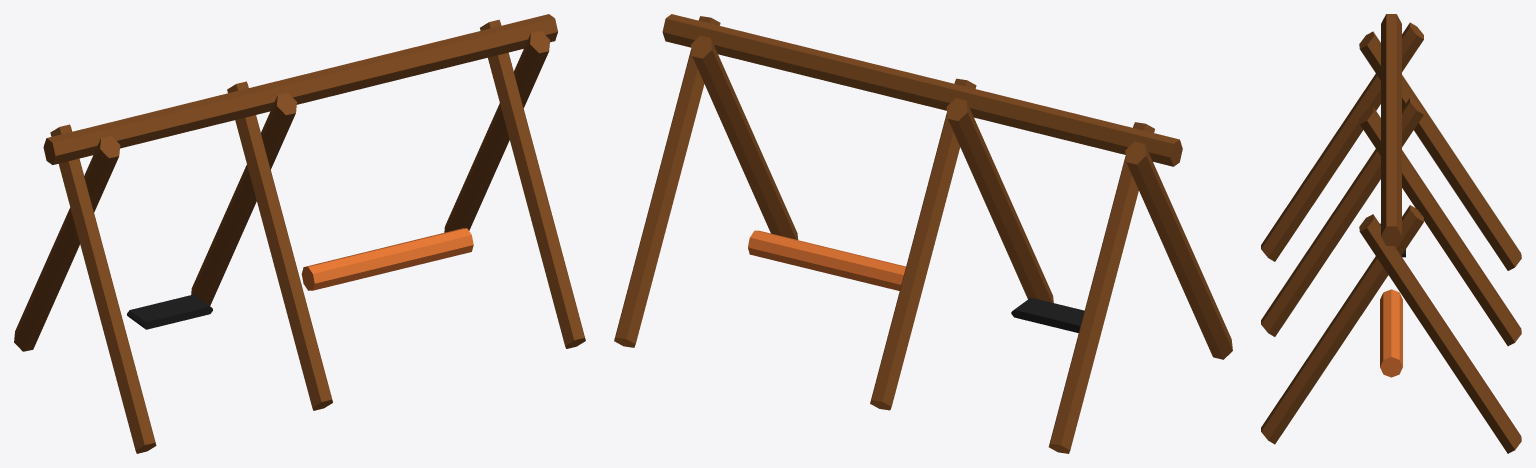
File: VisioSwing.fbx
3 views of the same model, side by side, from view 1: azimuth 30°, elevation 25°; view 2: azimuth 150°, elevation 25°; view 3: azimuth 270°, elevation 25° (orthographic). The views are drawn at different scales.
Visible parts, largest first — view 1: Cylinder, Cylinder.001, SwingSeat; view 2: Cylinder, Cylinder.001, SwingSeat; view 3: Cylinder, Cylinder.001.
Part boxes in pixels (<box>): Cylinder: <box>14,14,585,453</box>; Cylinder.001: <box>301,228,473,290</box>; SwingSeat: <box>127,294,212,329</box>; Cylinder: <box>614,14,1232,453</box>; Cylinder.001: <box>748,230,905,290</box>; SwingSeat: <box>1011,297,1084,332</box>; Cylinder: <box>1261,14,1521,453</box>; Cylinder.001: <box>1380,289,1402,377</box>.
Bounding box in the file's own units: 1768 × 915 × 912.
